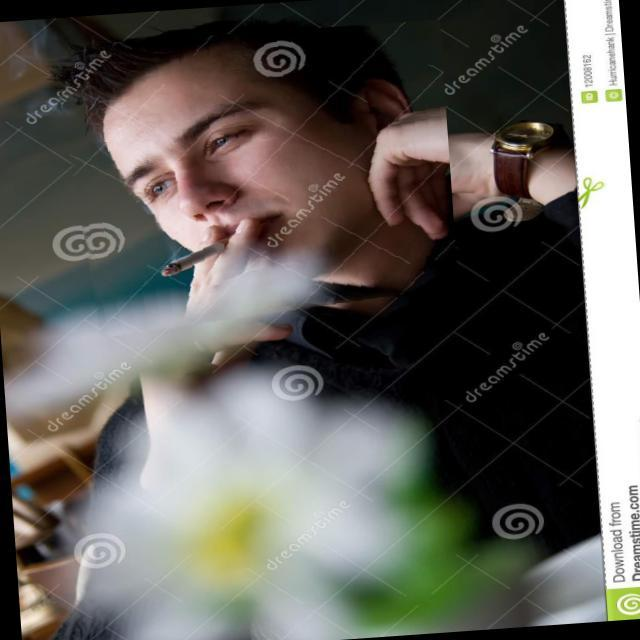cigarette: (100, 245, 228, 298)
